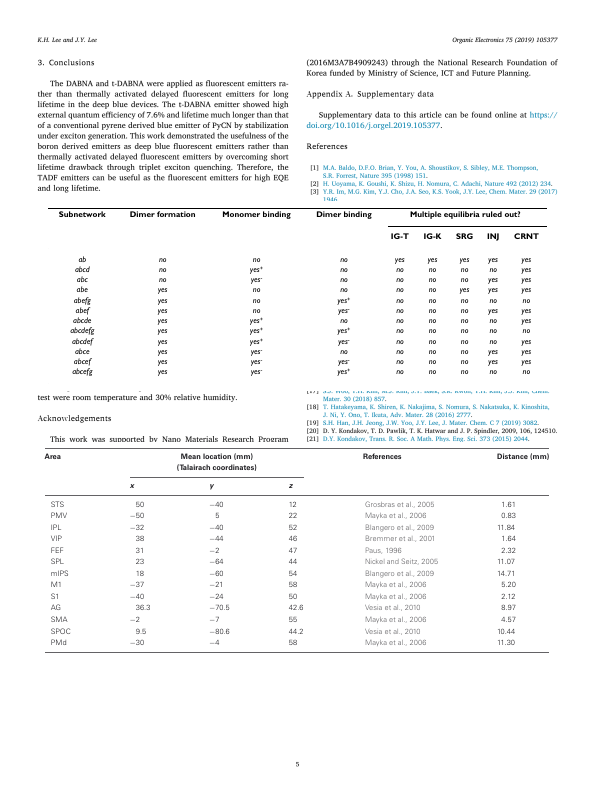borderless: (44, 447, 549, 652), (46, 206, 548, 385)
cell: (176, 453, 258, 473), (408, 211, 521, 220), (364, 558, 439, 567), (364, 536, 436, 545), (364, 501, 435, 510), (364, 524, 435, 533), (364, 570, 435, 579), (221, 211, 291, 220), (128, 211, 196, 220), (364, 593, 427, 602), (364, 616, 427, 625), (364, 639, 427, 648), (364, 605, 421, 614), (364, 628, 421, 637), (315, 211, 372, 220), (364, 513, 427, 521), (364, 582, 427, 590), (57, 211, 106, 220), (496, 453, 550, 461), (364, 547, 403, 556), (362, 453, 403, 461), (513, 233, 539, 242), (69, 327, 95, 336), (70, 337, 93, 347), (208, 605, 231, 614), (208, 628, 231, 637), (50, 628, 72, 637), (71, 368, 93, 377), (72, 296, 91, 306), (496, 524, 516, 533), (496, 558, 516, 567), (50, 570, 70, 579), (496, 570, 516, 579), (496, 628, 516, 637), (496, 639, 516, 648), (389, 233, 409, 242), (422, 233, 442, 242), (454, 233, 474, 242), (72, 317, 92, 326), (72, 358, 91, 367), (73, 265, 90, 275), (73, 347, 90, 357), (50, 616, 68, 625), (50, 639, 68, 648), (74, 306, 90, 316), (208, 501, 225, 510), (500, 501, 517, 510), (208, 524, 225, 533), (208, 536, 225, 545), (500, 536, 517, 545), (500, 547, 517, 556), (208, 558, 225, 567), (208, 570, 225, 579), (208, 582, 225, 591), (208, 593, 225, 602), (500, 605, 517, 614), (500, 616, 517, 625), (43, 453, 62, 461), (249, 265, 264, 275), (336, 296, 351, 306), (249, 337, 264, 347), (50, 513, 68, 521), (129, 524, 145, 533), (129, 582, 145, 591), (129, 593, 145, 602), (500, 593, 516, 602), (135, 605, 151, 614), (288, 605, 304, 614), (288, 628, 304, 637), (129, 639, 145, 648), (249, 347, 263, 357), (500, 513, 517, 521), (500, 582, 517, 590), (50, 501, 65, 510), (50, 547, 65, 556), (50, 558, 65, 567), (485, 233, 500, 242), (249, 317, 264, 326), (249, 327, 264, 336), (336, 327, 351, 336), (336, 368, 351, 377), (337, 306, 350, 316), (337, 337, 350, 347), (129, 513, 145, 521), (249, 276, 263, 285), (249, 358, 263, 367), (249, 368, 263, 377), (426, 255, 438, 265), (458, 255, 470, 265), (520, 255, 532, 265), (520, 265, 532, 275), (156, 296, 168, 306), (156, 306, 168, 316), (520, 306, 532, 316), (156, 337, 168, 347), (520, 337, 532, 347), (156, 347, 168, 357), (520, 347, 532, 357), (50, 524, 63, 533), (50, 536, 63, 545), (50, 582, 63, 591), (75, 276, 88, 285), (75, 286, 88, 295), (337, 358, 350, 367), (394, 255, 405, 265), (487, 255, 498, 265), (487, 306, 498, 316), (487, 347, 498, 357), (208, 547, 220, 556), (50, 605, 62, 614), (129, 616, 141, 625), (208, 616, 220, 625), (135, 628, 147, 637), (208, 639, 220, 648), (520, 276, 532, 285), (156, 286, 168, 295), (458, 286, 470, 295), (520, 286, 532, 295), (156, 317, 168, 326), (520, 317, 532, 326), (156, 327, 168, 336), (156, 358, 168, 367), (520, 358, 532, 367), (156, 368, 168, 377), (77, 255, 87, 265), (157, 255, 167, 265), (251, 255, 261, 265), (157, 265, 167, 275), (427, 265, 437, 275), (459, 265, 469, 275), (251, 296, 261, 306), (427, 296, 437, 306), (459, 296, 469, 306), (521, 296, 531, 306), (251, 306, 261, 316), (427, 306, 437, 316), (459, 306, 469, 316), (427, 337, 437, 347), (459, 337, 469, 347), (427, 347, 437, 357), (459, 347, 469, 357), (487, 276, 498, 285), (487, 286, 498, 295), (487, 358, 498, 367), (135, 501, 145, 510), (288, 501, 298, 510), (288, 524, 298, 533), (135, 536, 145, 545), (288, 536, 298, 545), (135, 547, 145, 556), (288, 547, 298, 556), (135, 558, 145, 567), (288, 558, 298, 567), (135, 570, 145, 579), (288, 570, 298, 579), (288, 582, 298, 591), (50, 593, 60, 602), (288, 593, 298, 602), (288, 616, 298, 625), (288, 639, 298, 648), (339, 255, 348, 265), (339, 265, 348, 275), (395, 265, 404, 275), (488, 265, 497, 275), (157, 276, 167, 285), (427, 276, 437, 285), (459, 276, 469, 285), (251, 286, 261, 295), (427, 286, 437, 295), (395, 296, 404, 306), (488, 296, 497, 306), (395, 306, 404, 316), (427, 317, 437, 326), (459, 317, 469, 326), (427, 327, 437, 336), (459, 327, 469, 336), (521, 327, 531, 336), (395, 337, 404, 347), (488, 337, 497, 347), (339, 347, 348, 357), (395, 347, 404, 357), (427, 358, 437, 367), (459, 358, 469, 367), (427, 368, 437, 377), (459, 368, 469, 377), (521, 368, 531, 377), (339, 276, 348, 285), (395, 276, 404, 285), (339, 286, 348, 295), (395, 286, 404, 295), (339, 317, 348, 326), (395, 317, 404, 326), (488, 317, 497, 326), (395, 327, 404, 336), (488, 327, 497, 336), (395, 358, 404, 367), (395, 368, 404, 377), (488, 368, 497, 377), (288, 513, 298, 521), (214, 513, 220, 521), (129, 484, 135, 491), (208, 484, 214, 491), (288, 484, 293, 491)
